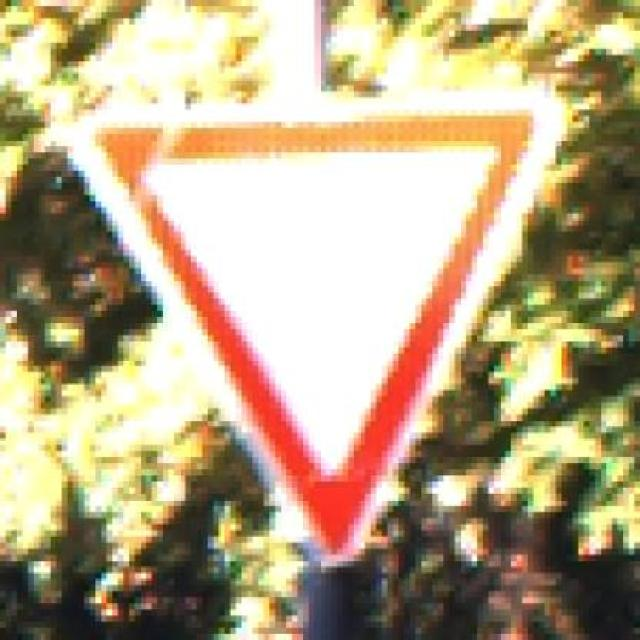Give Way: (50, 79, 590, 610)
